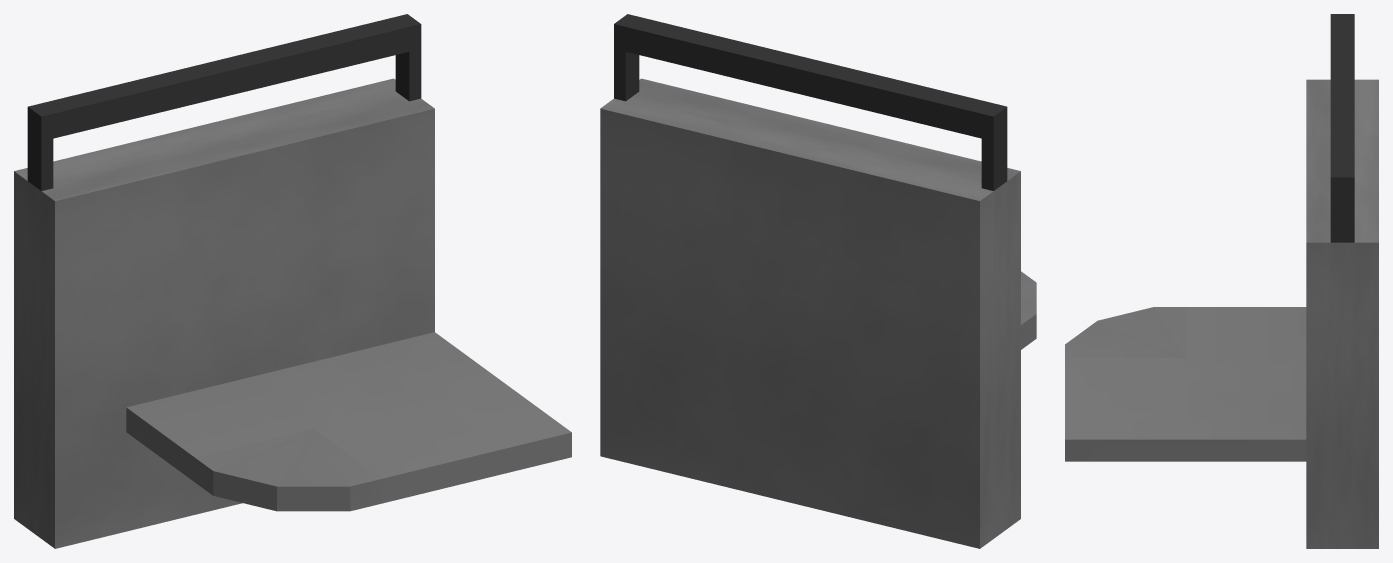
Rendered from dc_metro_fence_011.obj.
3 renders of one model, left to right at view 1: azimuth 30°, elevation 25°; view 2: azimuth 150°, elevation 25°; view 3: azimuth 270°, elevation 25°, orthographic. The views are drawn at different scales.
Parts seen in each view (by area): view 1: cube, cylinder; view 2: cube, cylinder; view 3: cube, cylinder.
Part boxes in pixels (box(x1,y1,x2,y2)): cube: box(14, 14, 571, 548); cylinder: box(176, 428, 381, 511); cube: box(600, 14, 1020, 548); cylinder: box(1021, 271, 1036, 349); cube: box(1065, 14, 1378, 548); cylinder: box(1065, 307, 1185, 357).
Bounding box in the file's own units: 1 × 1.06 × 0.8125.
2 materials, 2 textured.
